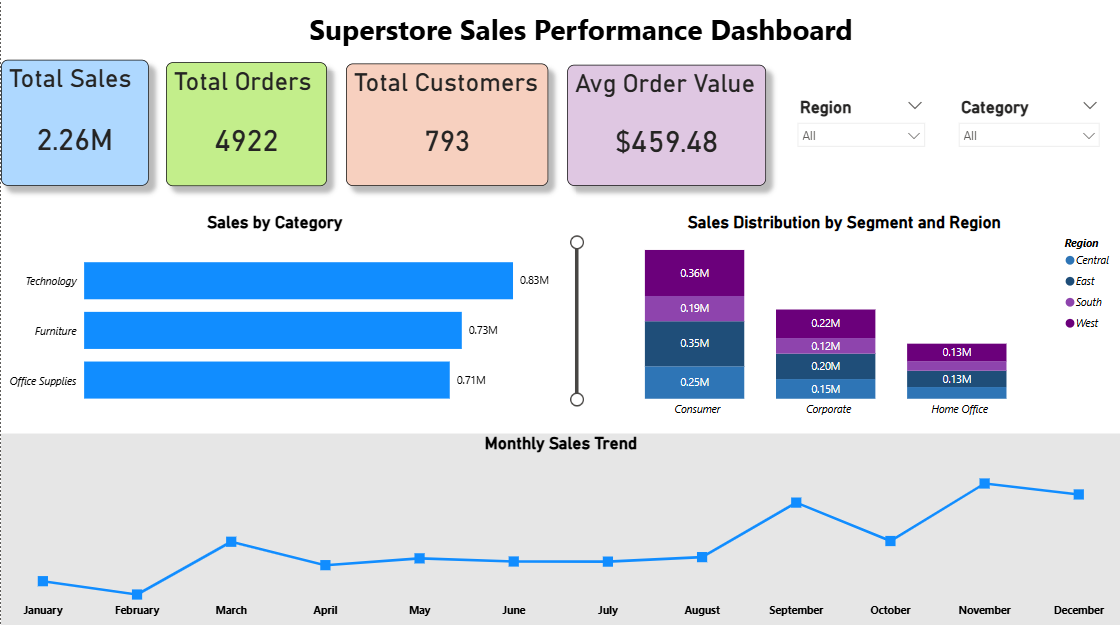

The page's visual inventory and layout, read from the dashboard file:
{"tool":"powerbi","page":{"name":"Page 1","canvas":[1280,720],"ordinal":0},"visuals":[{"type":"card","title":"Total Sales","fields":{"Values":["train.Total Sales"]},"box":[0,72.9,168.6,144.3],"z":0},{"type":"card","title":"Total Orders","fields":{"Values":["train.Total Orders"]},"box":[188.6,75.7,184.3,141.4],"z":1000},{"type":"card","title":"Total Customers","fields":{"Values":["train.Total Customers"]},"box":[394.3,77.1,231.4,140],"z":2000},{"type":"card","title":"Avg Order Value","fields":{"Values":["train.Avg Order Value"]},"box":[647.1,78.6,227.1,138.6],"z":3000},{"type":"textbox","box":[277.1,11.4,771.4,61.4],"z":4000},{"type":"clusteredBarChart","title":"Sales by Category","fields":{"Category":["train.Category"],"Y":["train.Total Sales"]},"box":[0,247,626.1,243.3],"z":5000},{"type":"columnChart","title":"Sales Distribution by Segment and Region","fields":{"Y":["train.Total Sales"],"Category":["train.Segment"],"Series":["train.Region"]},"box":[646.9,247,633.4,243.3],"z":6000},{"type":"lineChart","title":"Monthly Sales Trend","fields":{"Category":["train.Order Date.Variation.Date Hierarchy.Month"],"Y":["train.Total Sales"]},"box":[0,500,1280,220],"z":7000},{"type":"slicer","fields":{"Values":["train.Region"]},"box":[900,111.4,165.7,84.3],"z":8000},{"type":"slicer","fields":{"Values":["train.Category"]},"box":[1084.3,111.4,181.4,84.3],"z":9000}]}

Visuals, with their boxes in screenshot pixels (x1, y1, x2, y2), scaled from the page's 1280x720 canvas onto the 1120x625 screenshot:
"Total Sales" card: crop(0, 63, 148, 189)
"Total Orders" card: crop(165, 66, 326, 188)
"Total Customers" card: crop(345, 67, 547, 188)
"Avg Order Value" card: crop(566, 68, 765, 189)
textbox: crop(242, 10, 917, 63)
"Sales by Category" clusteredBarChart: crop(0, 214, 548, 426)
"Sales Distribution by Segment and Region" columnChart: crop(566, 214, 1119, 426)
"Monthly Sales Trend" lineChart: crop(0, 434, 1119, 624)
slicer - train.Region: crop(788, 97, 932, 170)
slicer - train.Category: crop(949, 97, 1107, 170)
